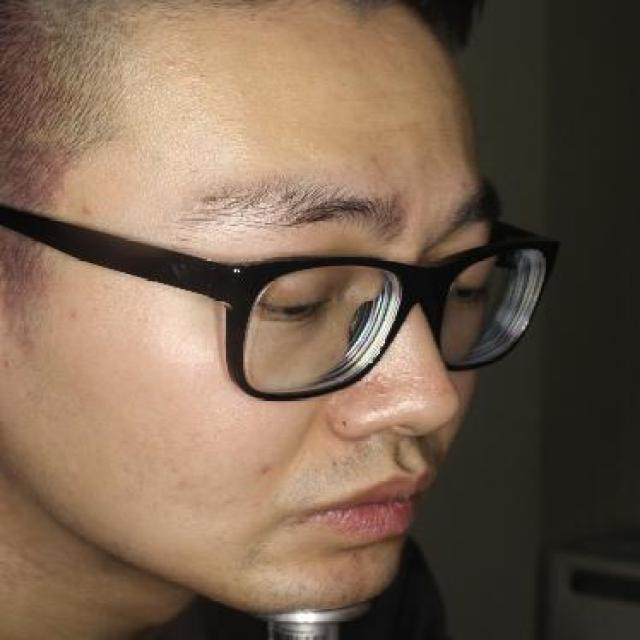dark spot: (257, 460, 277, 477)
whiteheads: (158, 49, 188, 74), (373, 370, 388, 384)
